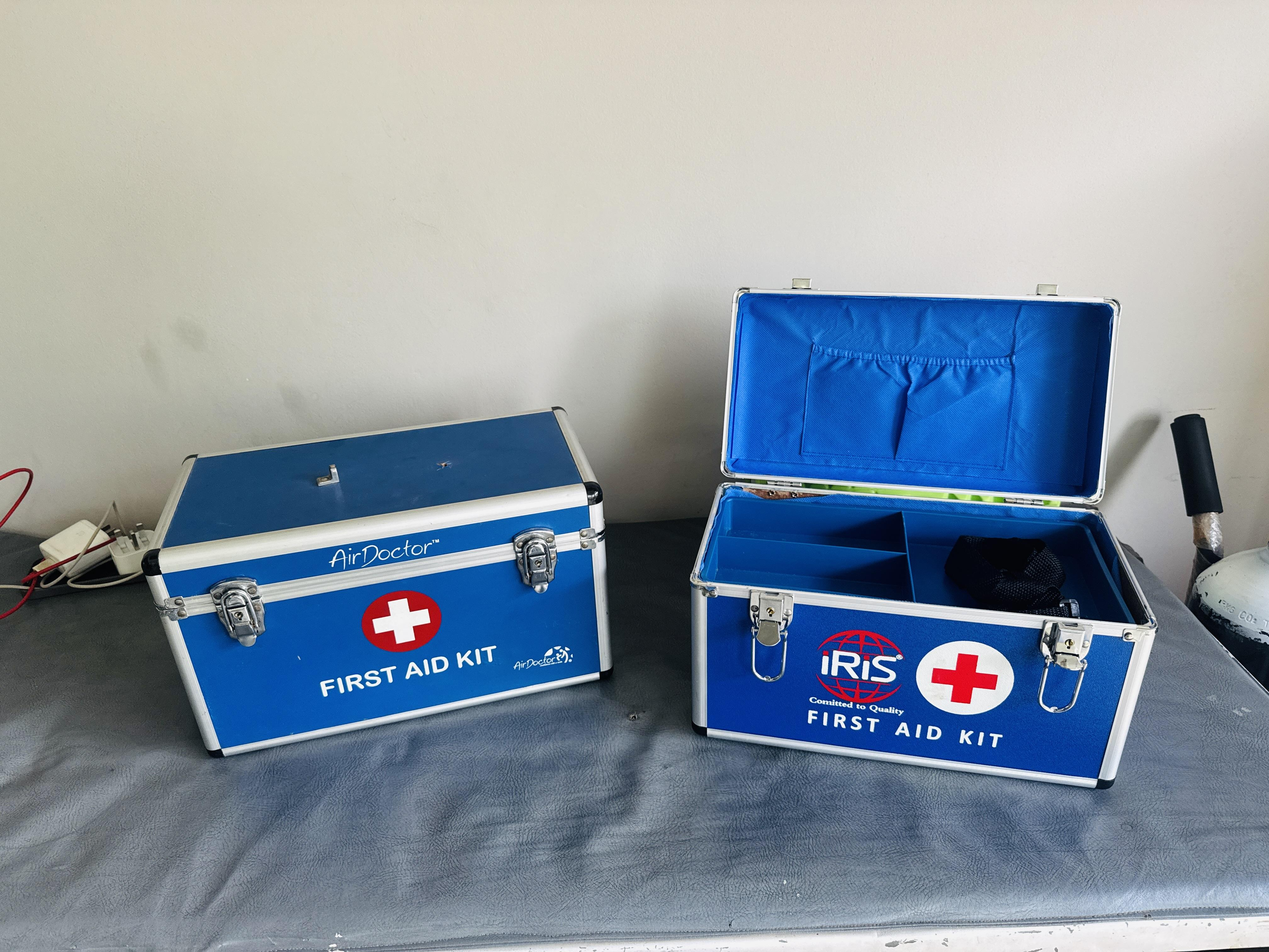FirstAidBox: (667, 252, 1179, 825), (101, 389, 632, 784)
